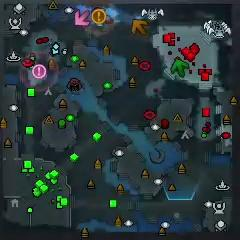Other: (33, 64, 46, 79)
x1: (74, 11, 90, 26)
x4: (171, 59, 188, 78)
x5: (131, 19, 148, 35)
